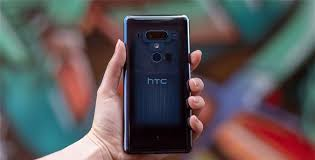htc: (119, 11, 195, 156)
